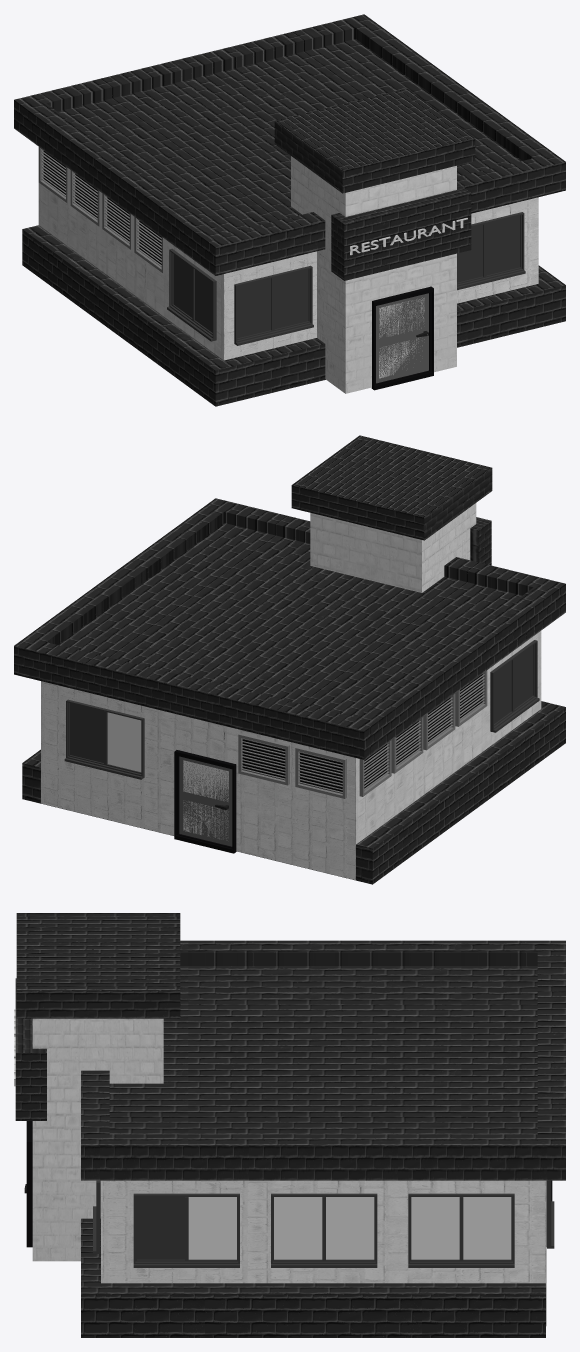
Rendered from new restaurant.fbx.
3 renders of one model, top to bottom at view 1: azimuth 30°, elevation 25°; view 2: azimuth 150°, elevation 25°; view 3: azimuth 270°, elevation 25°, orthographic. The views are drawn at different scales.
Parts seen in each view (by area): view 1: Cube.001, Front Building Block, Cube, Building Block, Signboard, Door.002, Window.002, Window.003, Window, airvent.001, airvent.002, airvent.003 (+2 smaller); view 2: Cube.001, Building Block, Front Building Block, Cube, Door.003, Window.004, Window, airvent.004, airvent.007, airvent.003, airvent.001, airvent.002 (+2 smaller); view 3: Cube.001, Front Building Block, Cube, Building Block, Window.006, Window.001, Window.005, Signboard, Door.002.
Part boxes in pixels (left/top/right/bottom): Cube.001: left=14, top=14, right=565, bottom=275; Front Building Block: left=274, top=88, right=475, bottom=393; Cube: left=22, top=225, right=565, bottom=406; Building Block: left=38, top=183, right=538, bottom=360; Signboard: left=331, top=183, right=471, bottom=280; Door.002: left=371, top=286, right=433, bottom=390; Window.002: left=234, top=265, right=313, bottom=345; Window.003: left=457, top=212, right=525, bottom=290; Window: left=167, top=248, right=216, bottom=341; airvent.001: left=70, top=170, right=102, bottom=226; airvent.002: left=102, top=193, right=134, bottom=249; airvent.003: left=38, top=147, right=70, bottom=203; Cube.001: left=14, top=498, right=565, bottom=759; Building Block: left=41, top=631, right=541, bottom=880; Front Building Block: left=291, top=435, right=492, bottom=592; Cube: left=22, top=701, right=565, bottom=884; Door.003: left=174, top=750, right=236, bottom=853; Window.004: left=64, top=699, right=144, bottom=779; Window: left=490, top=640, right=539, bottom=732; airvent.004: left=238, top=733, right=289, bottom=785; airvent.007: left=295, top=746, right=346, bottom=798; airvent.003: left=359, top=740, right=391, bottom=796; airvent.001: left=391, top=717, right=423, bottom=773; airvent.002: left=423, top=694, right=455, bottom=750; Cube.001: left=81, top=940, right=565, bottom=1180; Front Building Block: left=16, top=913, right=180, bottom=1261; Cube: left=81, top=1218, right=545, bottom=1337; Building Block: left=101, top=1180, right=546, bottom=1326; Window.006: left=408, top=1193, right=514, bottom=1267; Window.001: left=133, top=1193, right=239, bottom=1267; Window.005: left=271, top=1193, right=377, bottom=1267; Signboard: left=15, top=978, right=46, bottom=1120; Door.002: left=26, top=1121, right=32, bottom=1247.
Size of what is drawn, in the model's own units: 15298 by 9665 by 17359.
